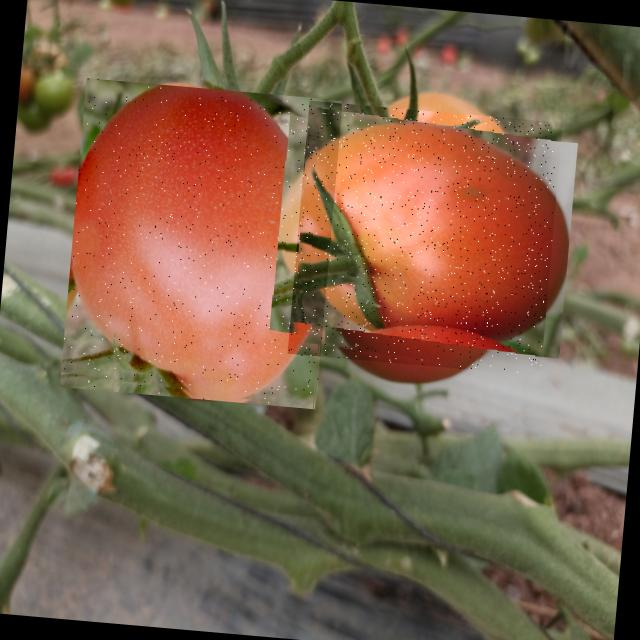Ripe Tomato: (59, 78, 342, 409), (287, 100, 562, 376)
